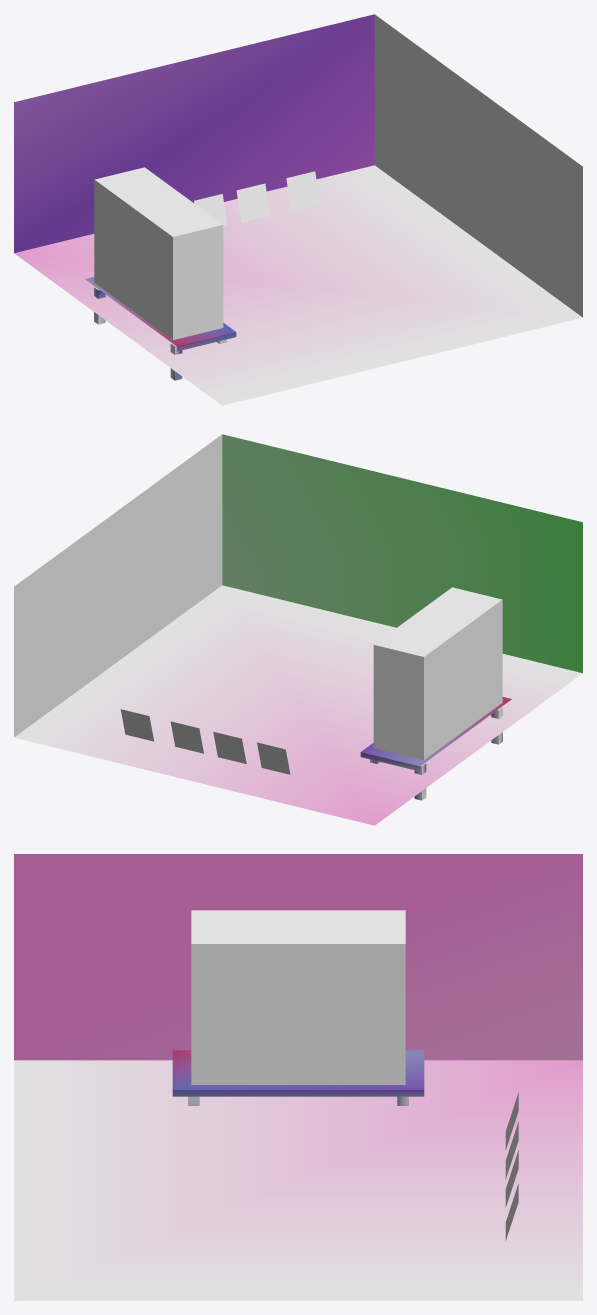
The model's file is room_06.glb.
3 views of the same model, one above another, from view 1: azimuth 30°, elevation 25°; view 2: azimuth 150°, elevation 25°; view 3: azimuth 270°, elevation 25° (orthographic). The views are drawn at different scales.
Parts seen in each view (by area): view 1: room, tank; view 2: room, tank; view 3: room, tank.
Part boxes in pixels (x1,y1,x2,y2): room: (14, 14, 582, 405); tank: (94, 167, 223, 339); room: (14, 434, 582, 825); tank: (373, 587, 502, 759); room: (14, 854, 582, 1300); tank: (191, 910, 405, 1084).
Bounding box in the file's own units: 1 × 0.468 × 1.
